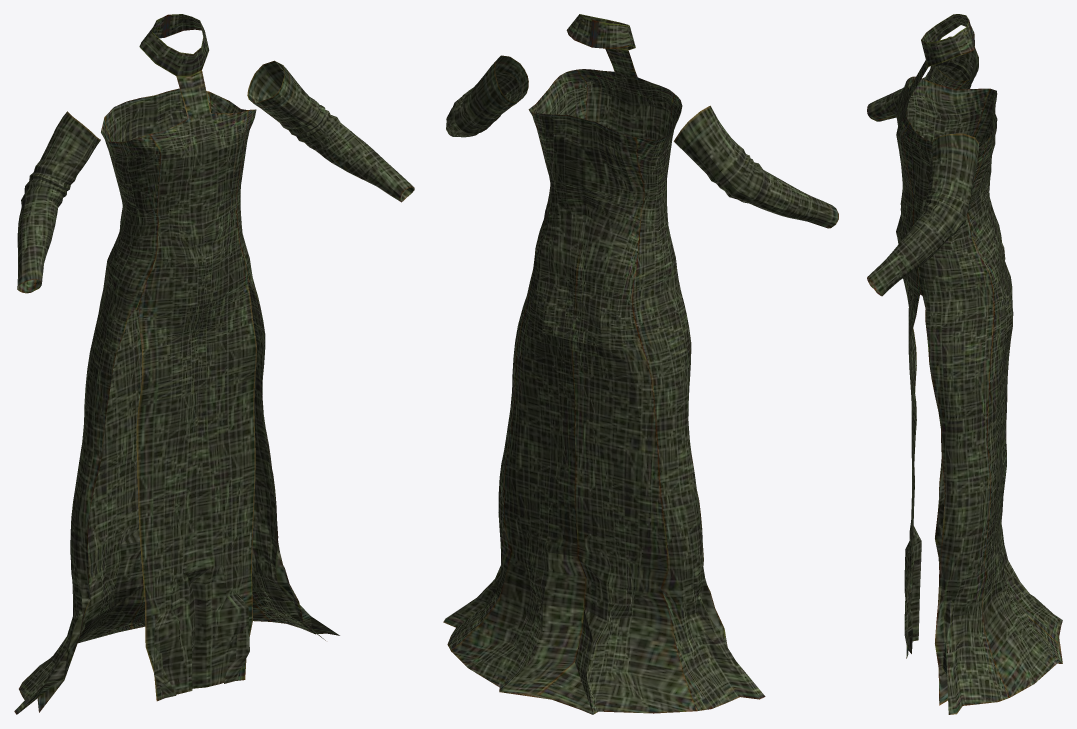
File: mhw_mindfront_f_dress_10.glb
3 views of the same model, side by side, from view 1: azimuth 30°, elevation 25°; view 2: azimuth 150°, elevation 25°; view 3: azimuth 270°, elevation 25° (orthographic). The views are drawn at different scales.
Visible parts, largest first — view 1: mhw_mindfront_f_dress_10; view 2: mhw_mindfront_f_dress_10; view 3: mhw_mindfront_f_dress_10.
Boxes of the visible parts, x1,y1,x2,y2 form: mhw_mindfront_f_dress_10: [14, 14, 414, 714]; mhw_mindfront_f_dress_10: [443, 14, 838, 714]; mhw_mindfront_f_dress_10: [867, 14, 1062, 714].
Size of the model in its own units: 1.09 by 1.72 by 0.4911.
1 material, 1 textured.
